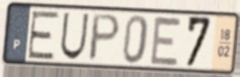0: (121, 13, 151, 66)
7: (185, 15, 213, 69)
E: (149, 14, 184, 68), (26, 10, 61, 61)
P: (86, 12, 123, 63)
U: (58, 11, 91, 62)
